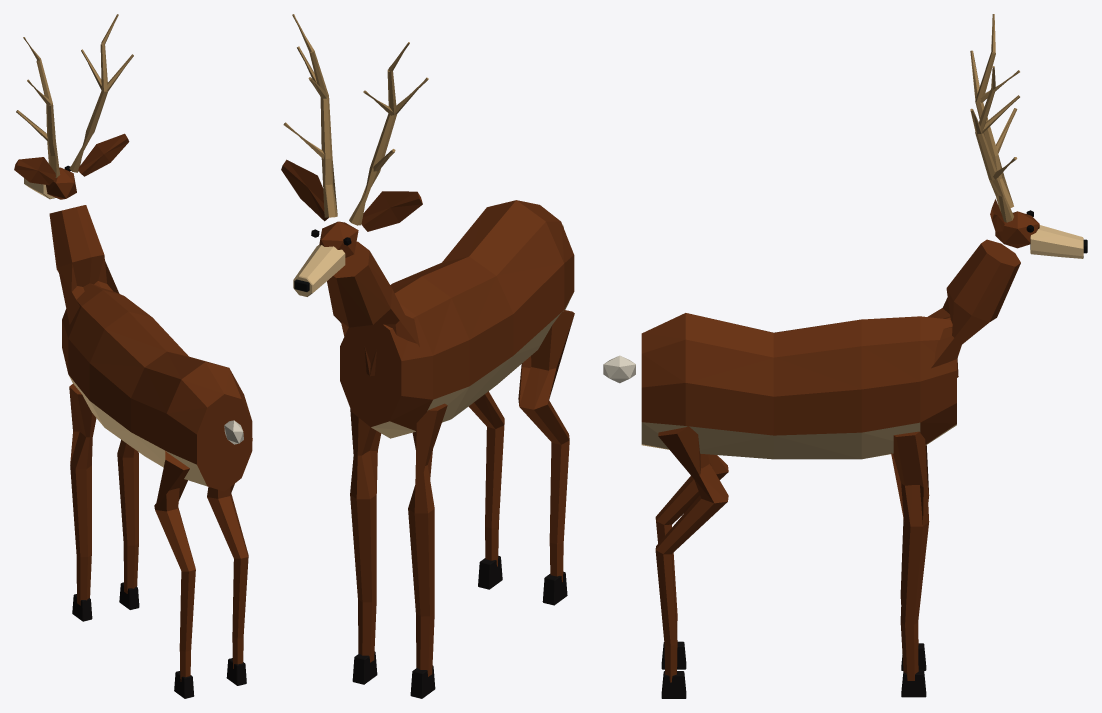
Rendered from ANIMAL_07_Deer.obj.
The picture shows the model from 3 angles, left to right: view 1: azimuth 30°, elevation 25°; view 2: azimuth 150°, elevation 25°; view 3: azimuth 270°, elevation 25°; orthographic projection. The views are drawn at different scales.
Parts seen in each view (by area): view 1: ANIMAL_07_Deer_Body, ANIMAL_07_Deer_Neck, ANIMAL_07_Deer_Leg_Front_R, ANIMAL_07_Deer_Leg_Rear_R, ANIMAL_07_Deer_Leg_Rear_L, ANIMAL_07_Deer_Leg_Front_L, ANIMAL_07_Deer_Antlers_L, ANIMAL_07_Deer_Antlers_R, ANIMAL_07_Deer_Ear_L, ANIMAL_07_Deer_Ear_R, ANIMAL_07_Deer_Head, ANIMAL_07_Deer_Hoof_Rear_R (+3 smaller); view 2: ANIMAL_07_Deer_Body, ANIMAL_07_Deer_Leg_Rear_R, ANIMAL_07_Deer_Leg_Front_R, ANIMAL_07_Deer_Leg_Front_L, ANIMAL_07_Deer_Neck, ANIMAL_07_Deer_Leg_Rear_L, ANIMAL_07_Deer_Antlers_L, ANIMAL_07_Deer_Antlers_R, ANIMAL_07_Deer_Ear_R, ANIMAL_07_Deer_Muzzle, ANIMAL_07_Deer_Ear_L, ANIMAL_07_Deer_Head (+4 smaller); view 3: ANIMAL_07_Deer_Body, ANIMAL_07_Deer_Leg_Front_L, ANIMAL_07_Deer_Neck, ANIMAL_07_Deer_Leg_Rear_L, ANIMAL_07_Deer_Antlers_R, ANIMAL_07_Deer_Antlers_L, ANIMAL_07_Deer_Leg_Rear_R, ANIMAL_07_Deer_Muzzle, ANIMAL_07_Deer_Head.
Boxes of the visible parts, box(x1,y1,x2,y2) form: ANIMAL_07_Deer_Body: box(62, 283, 252, 491); ANIMAL_07_Deer_Neck: box(49, 205, 119, 324); ANIMAL_07_Deer_Leg_Front_R: box(69, 384, 96, 605); ANIMAL_07_Deer_Leg_Rear_R: box(154, 451, 195, 681); ANIMAL_07_Deer_Leg_Rear_L: box(207, 438, 252, 668); ANIMAL_07_Deer_Leg_Front_L: box(117, 439, 138, 593); ANIMAL_07_Deer_Antlers_L: box(69, 14, 133, 172); ANIMAL_07_Deer_Antlers_R: box(16, 37, 60, 177); ANIMAL_07_Deer_Ear_L: box(78, 133, 129, 176); ANIMAL_07_Deer_Ear_R: box(14, 157, 55, 185); ANIMAL_07_Deer_Head: box(46, 167, 76, 199); ANIMAL_07_Deer_Hoof_Rear_R: box(174, 671, 194, 698); ANIMAL_07_Deer_Body: box(340, 200, 574, 438); ANIMAL_07_Deer_Leg_Rear_R: box(518, 310, 574, 581); ANIMAL_07_Deer_Leg_Front_R: box(408, 403, 447, 676); ANIMAL_07_Deer_Leg_Front_L: box(350, 409, 381, 662); ANIMAL_07_Deer_Neck: box(327, 241, 419, 376); ANIMAL_07_Deer_Leg_Rear_L: box(468, 391, 504, 566); ANIMAL_07_Deer_Antlers_L: box(283, 14, 337, 217); ANIMAL_07_Deer_Antlers_R: box(349, 42, 428, 225); ANIMAL_07_Deer_Ear_R: box(361, 191, 422, 231); ANIMAL_07_Deer_Muzzle: box(293, 244, 345, 296); ANIMAL_07_Deer_Ear_L: box(281, 159, 328, 221); ANIMAL_07_Deer_Head: box(319, 221, 358, 257); ANIMAL_07_Deer_Body: box(641, 313, 956, 459); ANIMAL_07_Deer_Leg_Front_L: box(891, 431, 929, 680); ANIMAL_07_Deer_Neck: box(928, 239, 1020, 377); ANIMAL_07_Deer_Leg_Rear_L: box(655, 426, 728, 682); ANIMAL_07_Deer_Antlers_R: box(970, 14, 1019, 208); ANIMAL_07_Deer_Antlers_L: box(970, 66, 1019, 222); ANIMAL_07_Deer_Leg_Rear_R: box(655, 454, 728, 634); ANIMAL_07_Deer_Muzzle: box(1030, 225, 1083, 258); ANIMAL_07_Deer_Head: box(995, 211, 1039, 248).
Bounding box in the file's own units: 0.4161 × 1.93 × 1.32.
